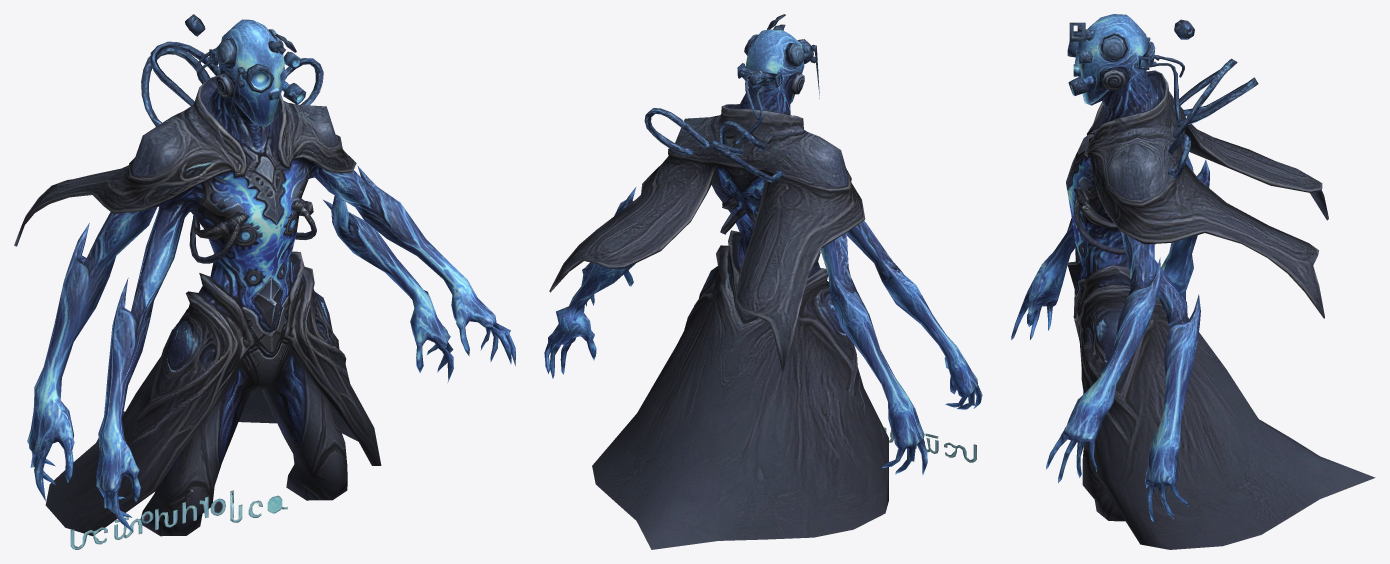
The model's file is 019e2ddc-6be5-7184-9cd4-0cbe58abd12b.glb.
3 renders of one model, left to right at view 1: azimuth 30°, elevation 25°; view 2: azimuth 150°, elevation 25°; view 3: azimuth 270°, elevation 25°, orthographic. The views are drawn at different scales.
Parts seen in each view (by area): view 1: tripo_node_852e8b77-173b-4cc6-8195-93dd55fd051b; view 2: tripo_node_852e8b77-173b-4cc6-8195-93dd55fd051b; view 3: tripo_node_852e8b77-173b-4cc6-8195-93dd55fd051b.
Boxes of the visible parts, box(x1,y1,x2,y2) form: tripo_node_852e8b77-173b-4cc6-8195-93dd55fd051b: box(14, 14, 515, 549); tripo_node_852e8b77-173b-4cc6-8195-93dd55fd051b: box(544, 14, 982, 549); tripo_node_852e8b77-173b-4cc6-8195-93dd55fd051b: box(1011, 14, 1375, 549).
Bounding box in the file's own units: 0.9512 × 0.998 × 0.7168.
1 material, 1 textured.
